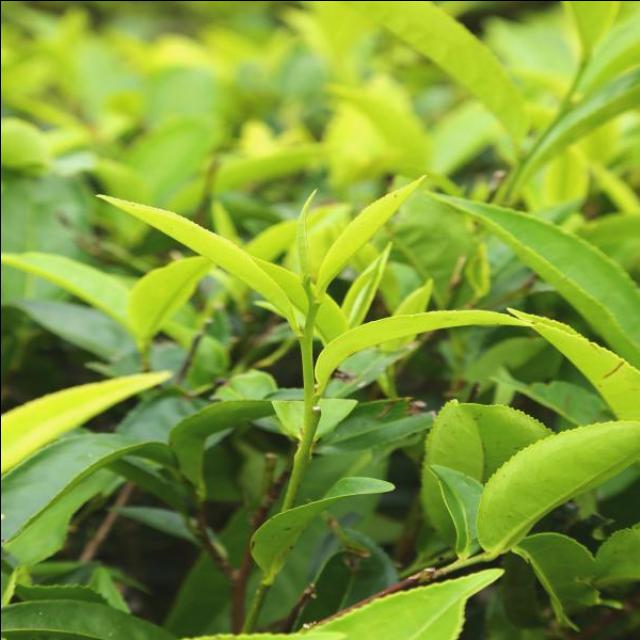Stem: (300, 331, 312, 347)
